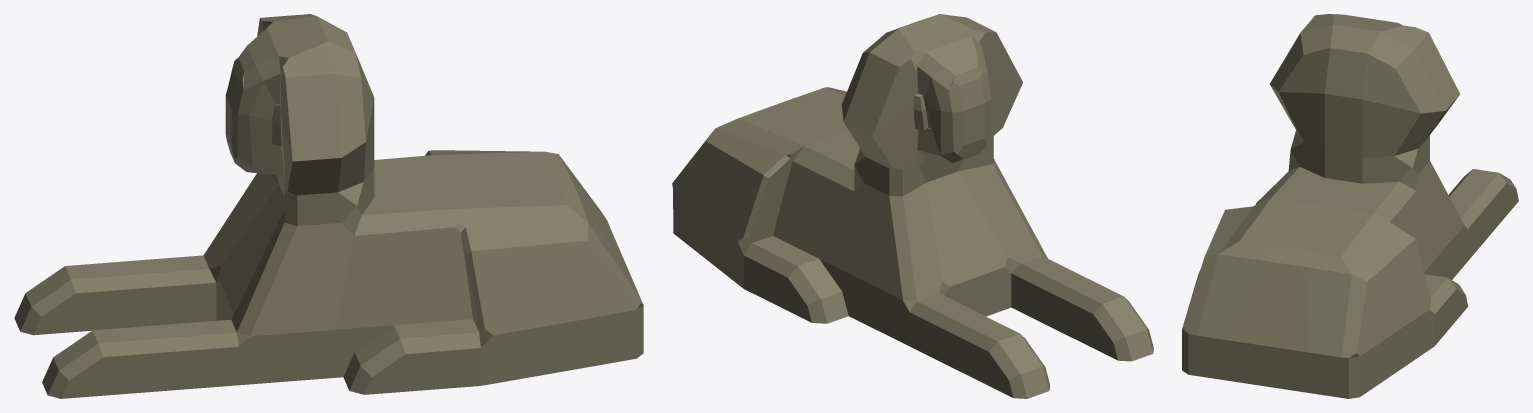
The model's file is TEMP_Sphynx.fbx.
3 renders of one model, left to right at view 1: azimuth 30°, elevation 25°; view 2: azimuth 150°, elevation 25°; view 3: azimuth 270°, elevation 25°, orthographic. The views are drawn at different scales.
Parts seen in each view (by area): view 1: Sphynx; view 2: Sphynx; view 3: Sphynx.
Boxes of the visible parts, bbox=[...] form: Sphynx: bbox=[14, 14, 643, 398]; Sphynx: bbox=[672, 14, 1153, 398]; Sphynx: bbox=[1182, 14, 1518, 398].
Size of the model in its own units: 8.55 by 4.53 by 5.4.
